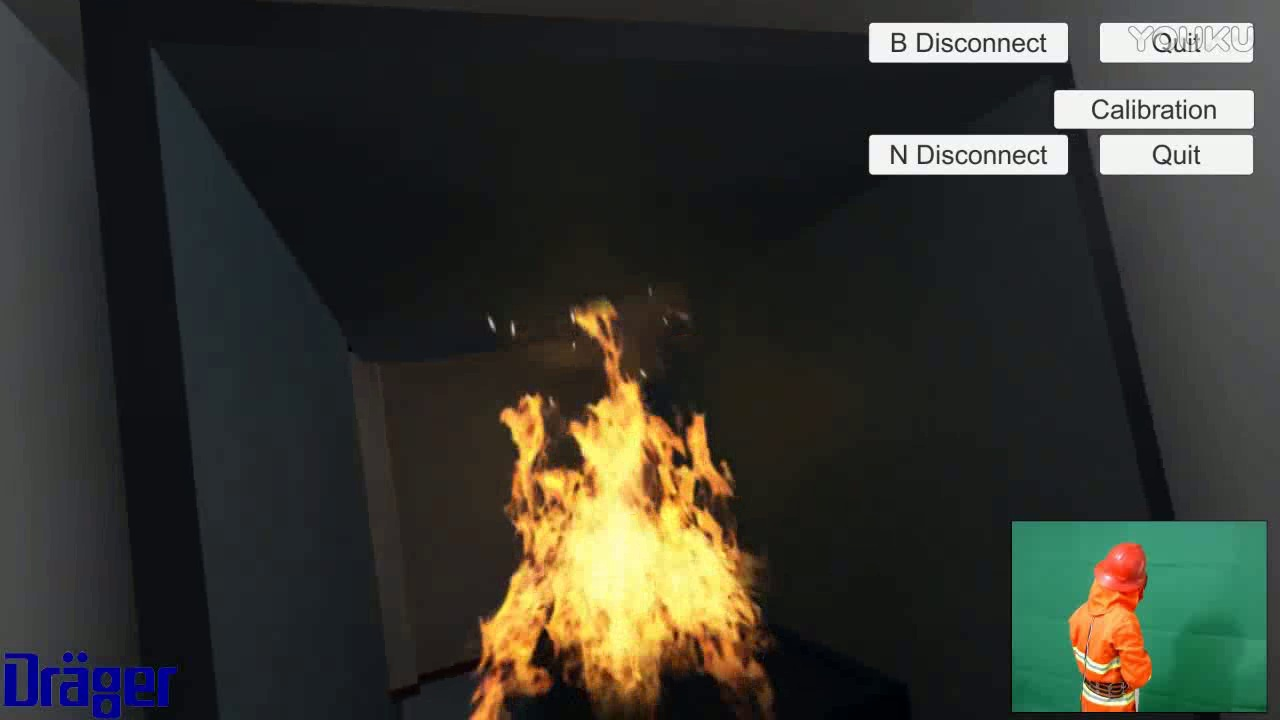fire: (448, 301, 783, 711)
